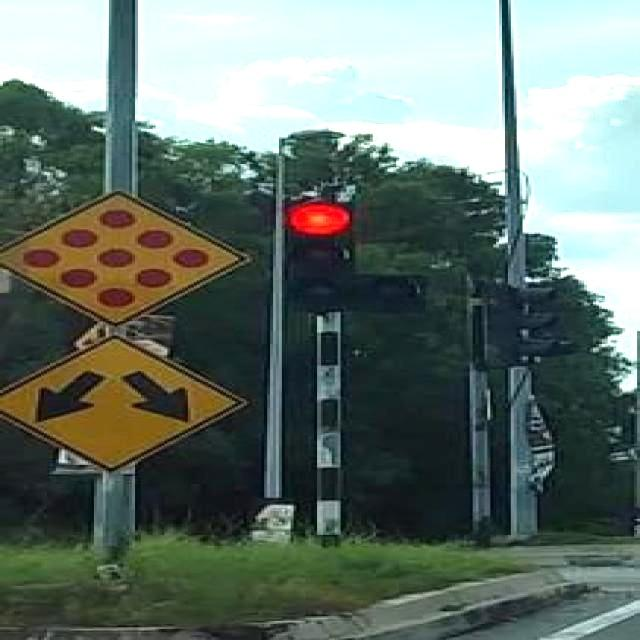Red: (282, 198, 356, 310)
